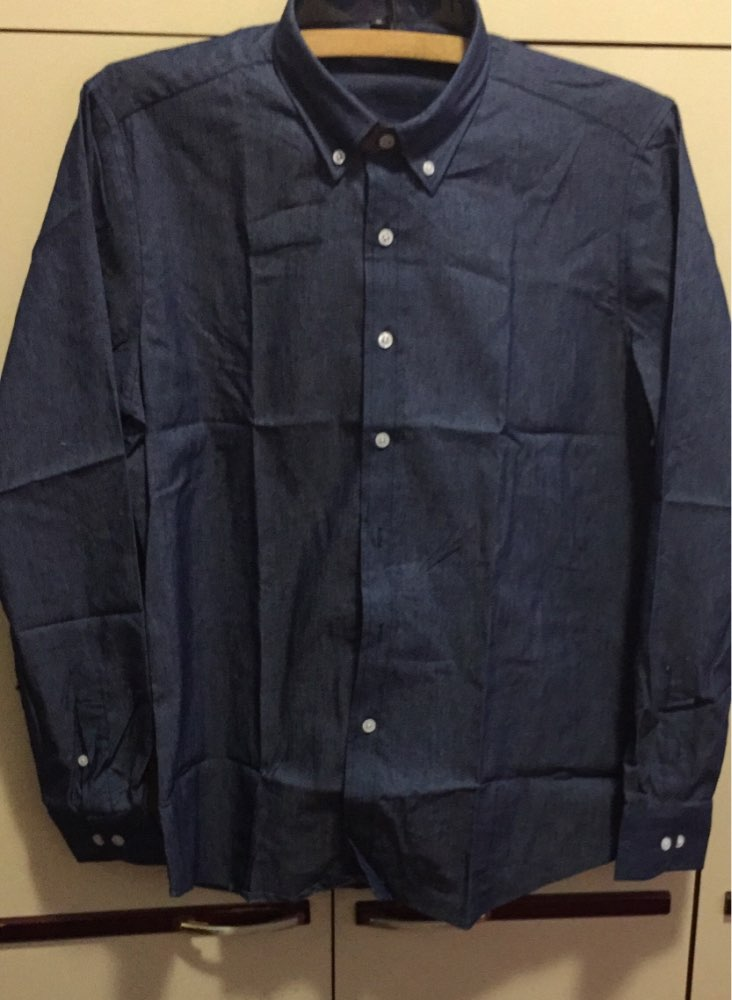shirts: (22, 5, 722, 907)
